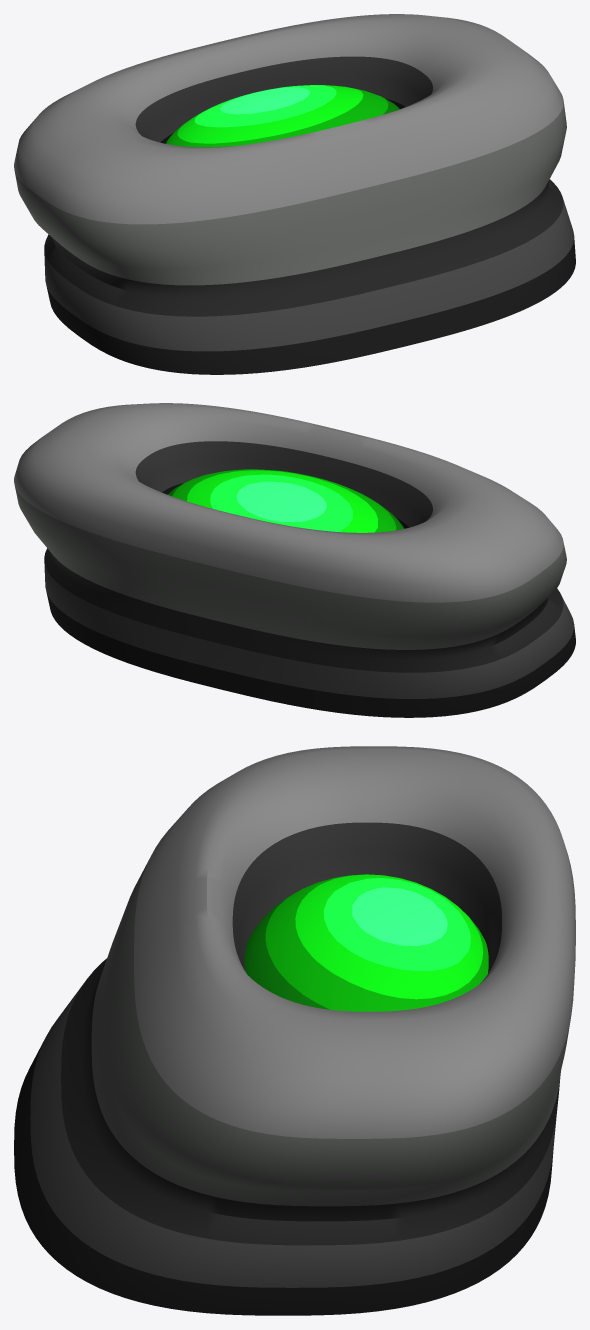
File: lens_pad_79.glb
3 renders of one model, top to bottom at view 1: azimuth 30°, elevation 25°; view 2: azimuth 150°, elevation 25°; view 3: azimuth 270°, elevation 25°, orthographic. The views are drawn at different scales.
Visible parts, largest first — view 1: pad, lens; view 2: pad, lens; view 3: pad, lens.
Part boxes in pixels (<box>): pad: <box>14,14,575,374</box>; lens: <box>165,85,399,147</box>; pad: <box>14,403,575,717</box>; lens: <box>168,469,404,532</box>; pad: <box>14,746,575,1315</box>; lens: <box>244,874,488,1011</box>.
Bounding box in the file's own units: 18.2 × 5.98 × 11.95.
